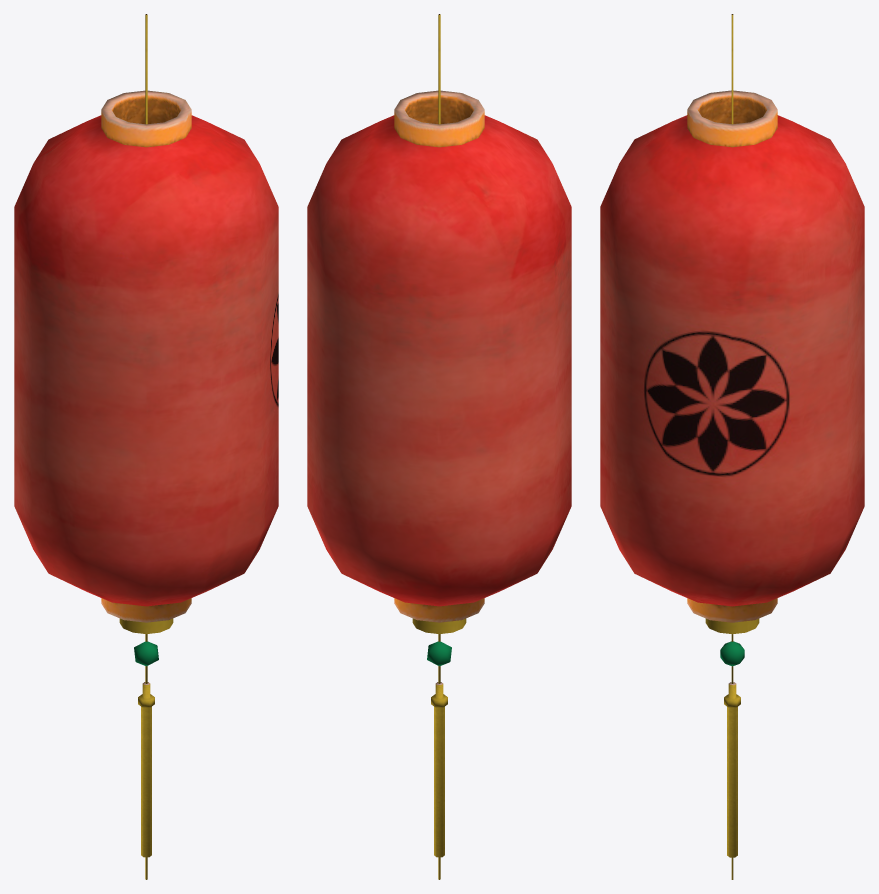
Rendered from hd_chineseRedLantern_a_main.glb.
The picture shows the model from 3 angles, left to right: view 1: azimuth 30°, elevation 25°; view 2: azimuth 150°, elevation 25°; view 3: azimuth 270°, elevation 25°; orthographic projection.
Visible parts, largest first — view 1: hd_chineseRedLantern_a_Albedo.jpg__; view 2: hd_chineseRedLantern_a_Albedo.jpg__; view 3: hd_chineseRedLantern_a_Albedo.jpg__.
Boxes of the visible parts, x1,y1,x2,y2 form: hd_chineseRedLantern_a_Albedo.jpg__: (14, 14, 278, 879); hd_chineseRedLantern_a_Albedo.jpg__: (307, 14, 571, 879); hd_chineseRedLantern_a_Albedo.jpg__: (600, 14, 864, 879).
Bounding box in the file's own units: 2 × 7.23 × 2.
Materials: 1 (1 with a texture image).
